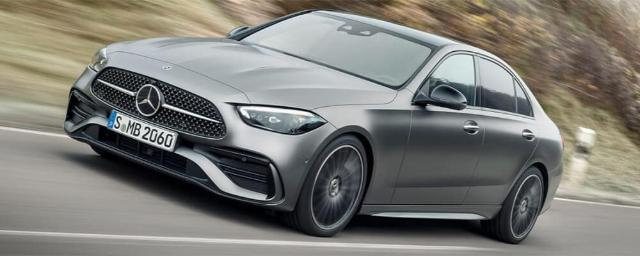benz: (63, 8, 565, 238)
